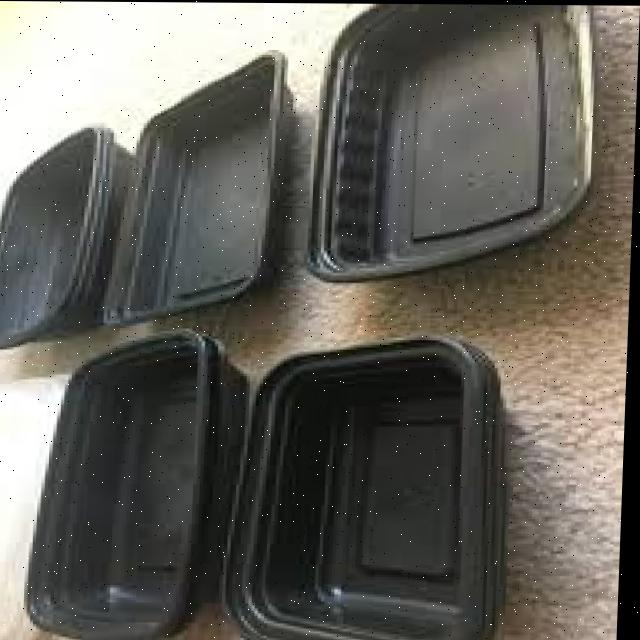disposable: (288, 2, 640, 295), (232, 315, 521, 640), (16, 336, 250, 640), (107, 52, 312, 323)
